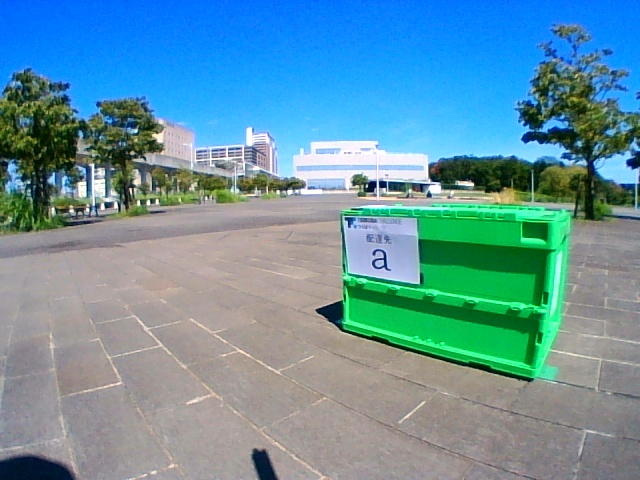green_box: (340, 203, 569, 378)
tag_a: (351, 227, 418, 274)
